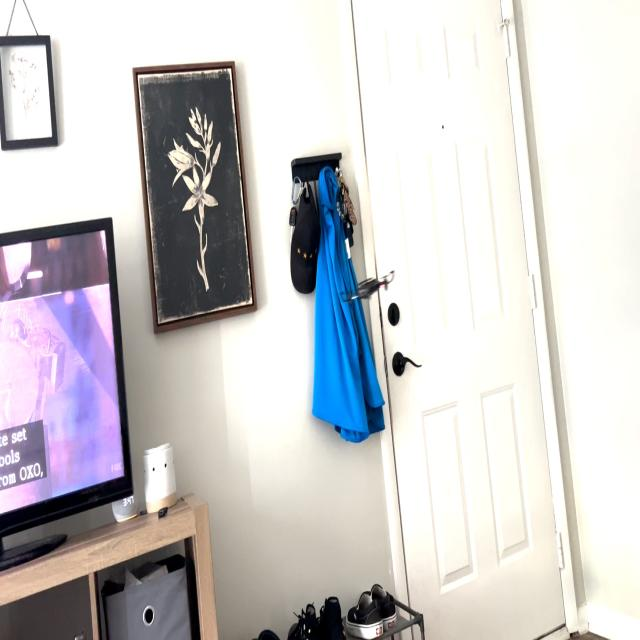drone: (334, 253, 401, 310)
